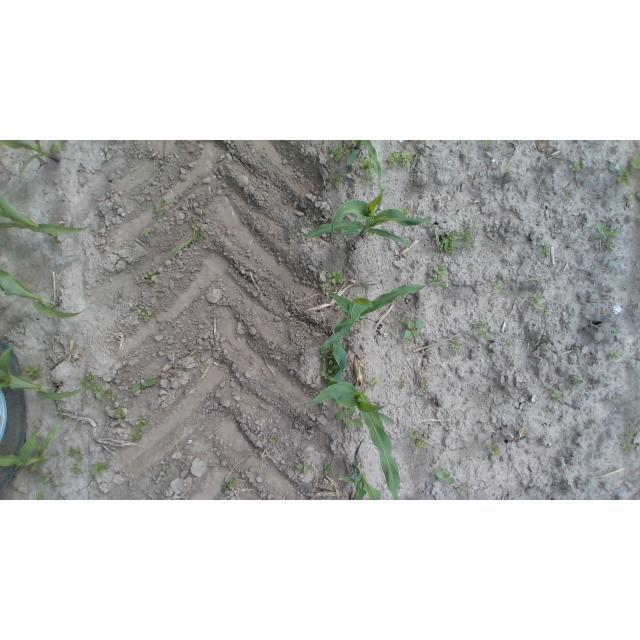Maize: (298, 379, 402, 500), (320, 284, 444, 381), (295, 189, 441, 250), (0, 190, 96, 247), (0, 340, 88, 400), (0, 268, 88, 317), (337, 437, 382, 500), (347, 140, 384, 213), (0, 424, 56, 471), (0, 141, 60, 180)
Weeds: (336, 405, 364, 429), (403, 319, 426, 342), (461, 224, 479, 253), (438, 230, 459, 254), (132, 376, 156, 393), (92, 381, 109, 401), (188, 222, 204, 243), (172, 240, 193, 256), (149, 198, 166, 217), (435, 467, 453, 484), (360, 155, 376, 174), (595, 223, 611, 242), (616, 167, 630, 188), (115, 406, 130, 424), (322, 366, 335, 386), (139, 268, 155, 284), (319, 344, 333, 362), (81, 371, 96, 387), (430, 274, 447, 288), (328, 269, 345, 283), (297, 459, 314, 473), (629, 154, 640, 175), (91, 463, 107, 477), (133, 427, 147, 443), (137, 305, 151, 321), (26, 366, 43, 379), (476, 329, 492, 342), (221, 477, 235, 491), (620, 427, 636, 439), (487, 444, 501, 457), (413, 438, 427, 451), (321, 461, 334, 475), (331, 147, 343, 162), (539, 242, 550, 258), (492, 280, 505, 293), (569, 161, 583, 173), (622, 442, 636, 454), (435, 264, 450, 275), (408, 428, 423, 439), (401, 153, 413, 166), (388, 153, 400, 166), (400, 205, 413, 217), (40, 473, 53, 485), (56, 408, 69, 420), (362, 173, 374, 185), (451, 340, 464, 351), (573, 374, 584, 387), (138, 415, 151, 426), (553, 389, 564, 401), (531, 292, 542, 304), (609, 349, 619, 361), (334, 175, 342, 189), (33, 489, 43, 500), (71, 467, 83, 476), (78, 449, 85, 464), (329, 360, 337, 373), (325, 283, 335, 293), (108, 392, 117, 403), (367, 377, 378, 386), (140, 229, 152, 237), (343, 144, 350, 157), (476, 320, 489, 327), (269, 435, 279, 444), (68, 447, 76, 458), (483, 140, 493, 148), (7, 319, 18, 326), (535, 304, 546, 311), (504, 166, 513, 174), (326, 172, 332, 184), (606, 243, 615, 251), (625, 193, 633, 202), (398, 379, 405, 389), (412, 183, 422, 190), (162, 465, 170, 473), (486, 348, 495, 355), (421, 379, 428, 388), (565, 192, 575, 198), (128, 305, 136, 312), (509, 339, 518, 345), (457, 485, 464, 492), (612, 328, 618, 336), (624, 283, 630, 290), (611, 229, 618, 235), (416, 153, 422, 159), (618, 397, 624, 403), (321, 140, 328, 145), (311, 217, 316, 223), (310, 393, 316, 398), (332, 397, 337, 403), (543, 309, 548, 314), (491, 211, 496, 216), (636, 213, 640, 219), (419, 140, 424, 144), (595, 198, 600, 202), (181, 366, 186, 370), (531, 337, 535, 341), (431, 150, 435, 153)
